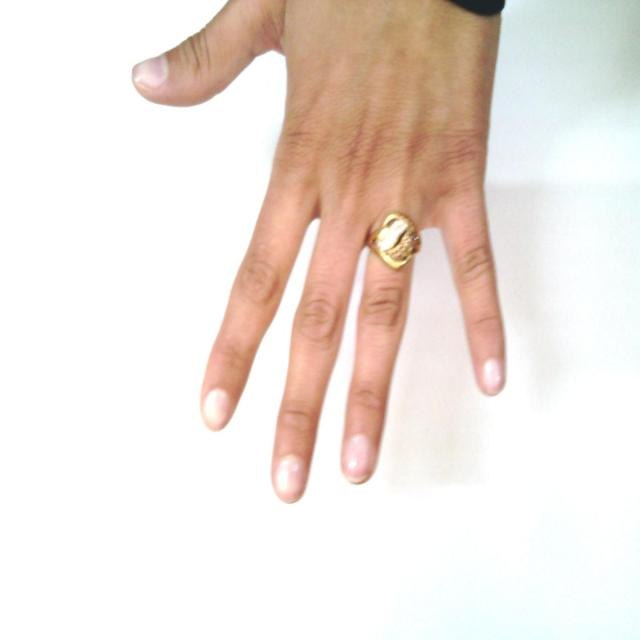others: (115, 1, 521, 505)
